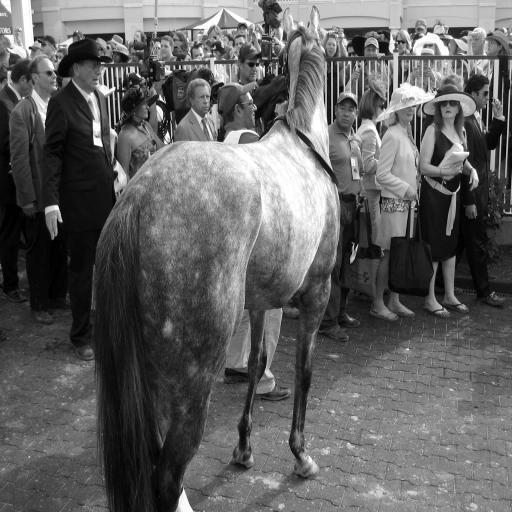horse: (94, 6, 342, 512)
